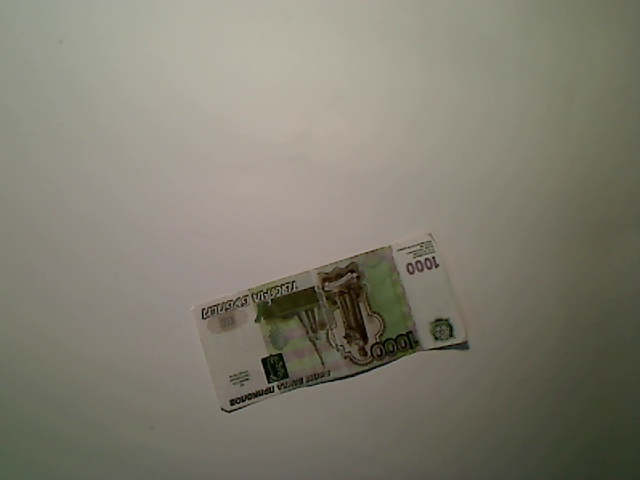banknotes: (188, 226, 473, 418)
